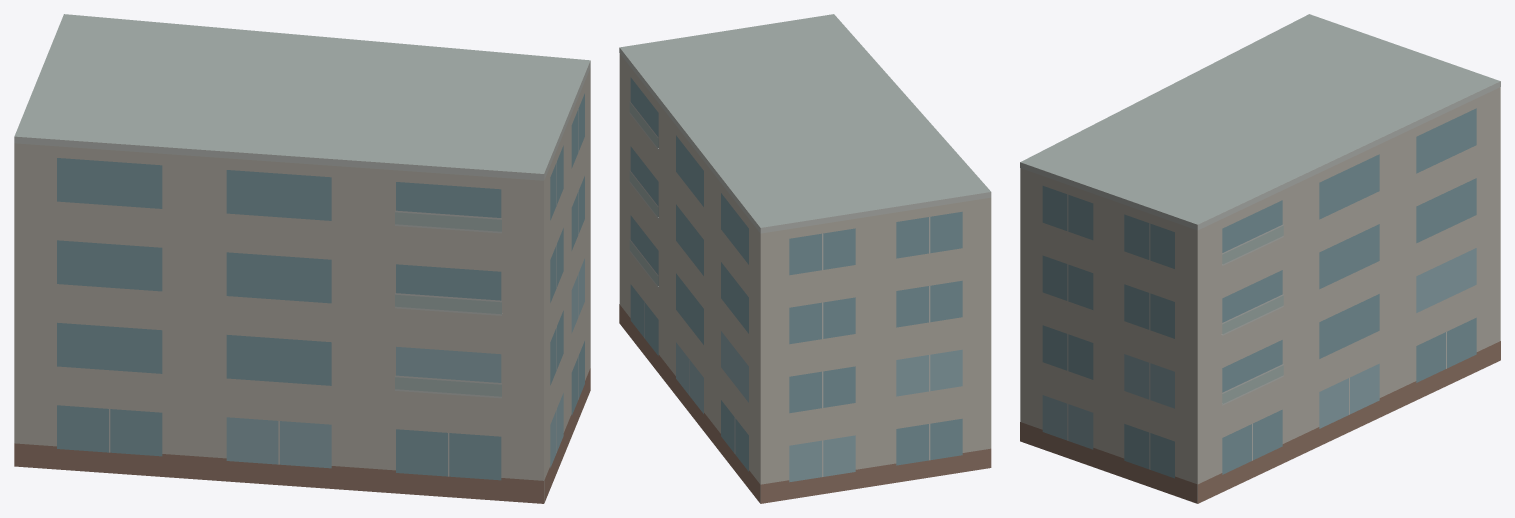
Rendered from survey-upis-32760647.glb.
3 views of the same model, side by side, from view 1: azimuth 30°, elevation 25°; view 2: azimuth 150°, elevation 25°; view 3: azimuth 270°, elevation 25° (orthographic). The views are drawn at different scales.
Parts seen in each view (by area): view 1: survey-upis-32760647.tmp; view 2: survey-upis-32760647.tmp; view 3: survey-upis-32760647.tmp.
Boxes of the visible parts, x1=… form: survey-upis-32760647.tmp: x1=14, y1=14, x2=590, y2=503; survey-upis-32760647.tmp: x1=619, y1=14, x2=991, y2=503; survey-upis-32760647.tmp: x1=1020, y1=14, x2=1500, y2=503.
Size of the model in its own units: 19.28 by 11.9 by 18.58.
